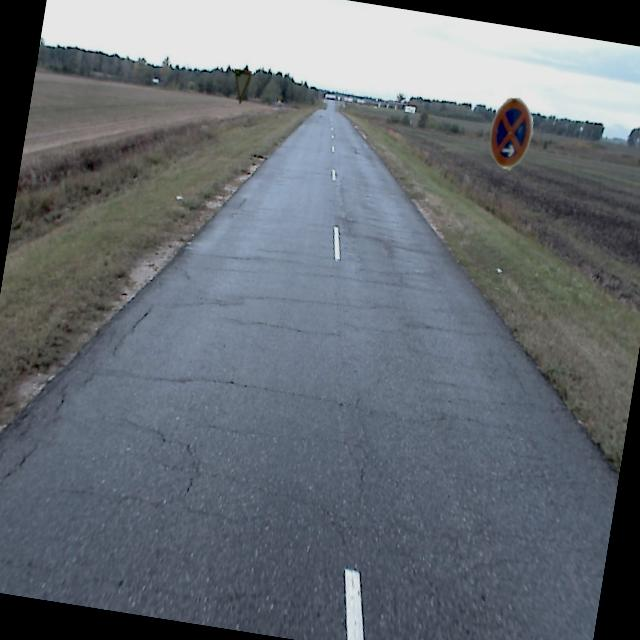road: (0, 99, 617, 640)
